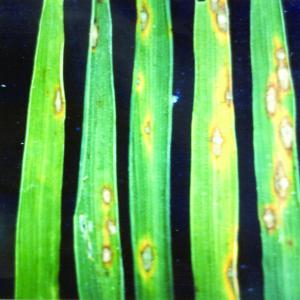Rice_Blast: (265, 152, 299, 200), (128, 232, 161, 278), (268, 41, 299, 89), (199, 119, 230, 160), (259, 201, 287, 242), (137, 108, 162, 153), (276, 113, 300, 155), (206, 1, 236, 34), (126, 63, 152, 99), (42, 82, 69, 116), (262, 76, 284, 116), (94, 239, 121, 270), (221, 78, 243, 116), (89, 179, 117, 208), (84, 13, 105, 47), (136, 7, 157, 35), (96, 217, 121, 239)
